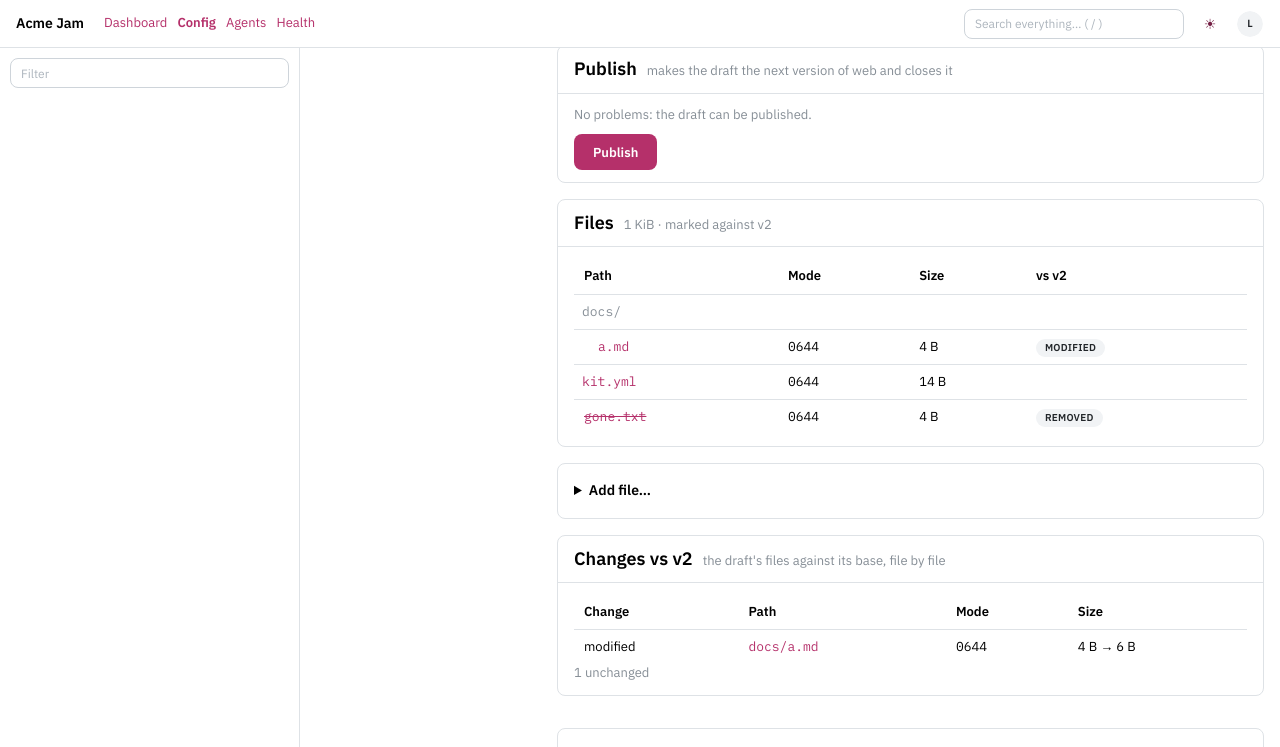
it: publishing a draft › shows an upload over the limit inline
(page scrolled)
Click the heading "Add file…" at (620, 490), box [589, 481, 651, 499]
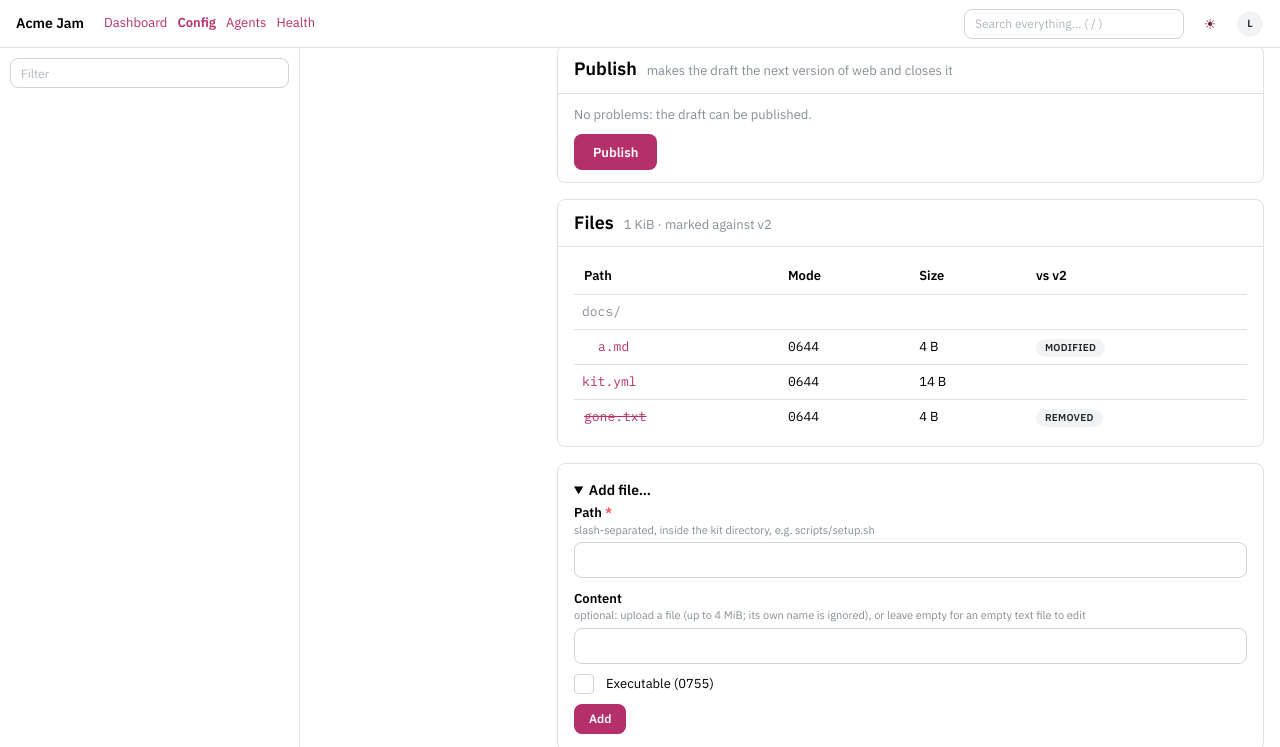
Type "big.bin" into the field labelled "Path *" at (910, 560), box [574, 542, 1247, 578]
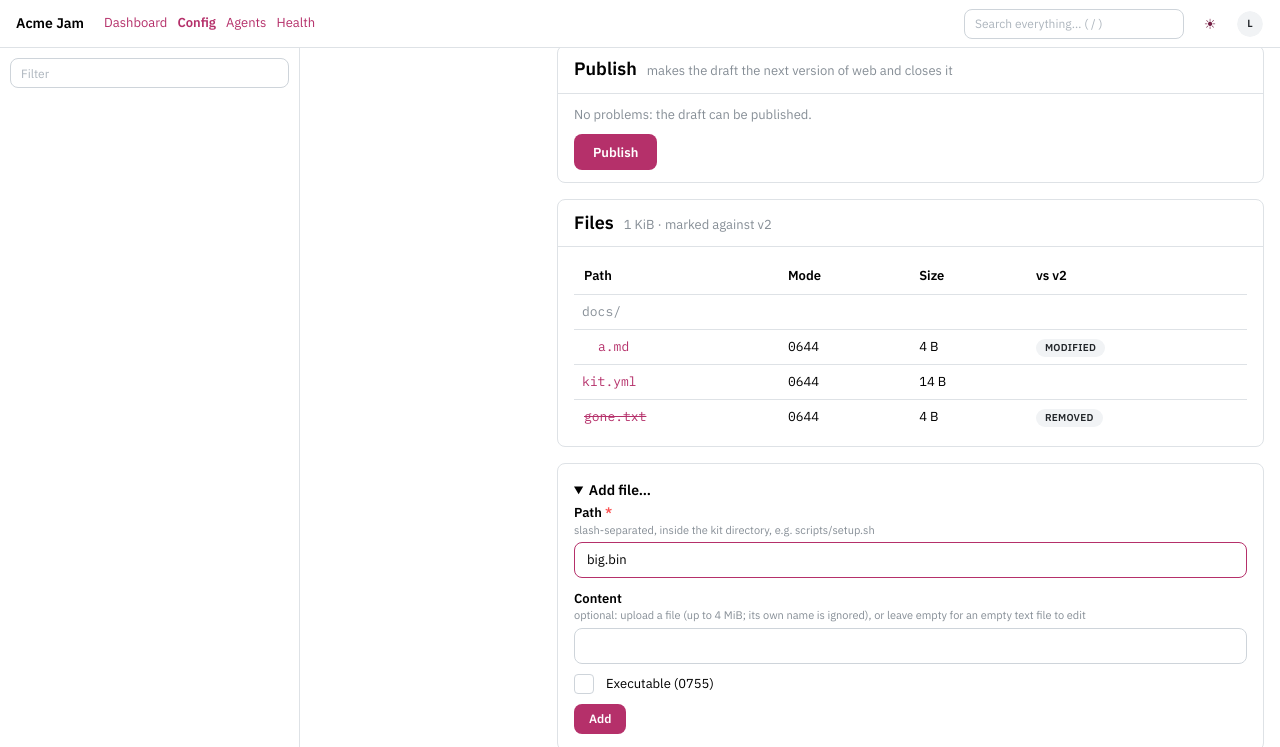
Click the button "Add" at (600, 719), box [574, 704, 626, 734]
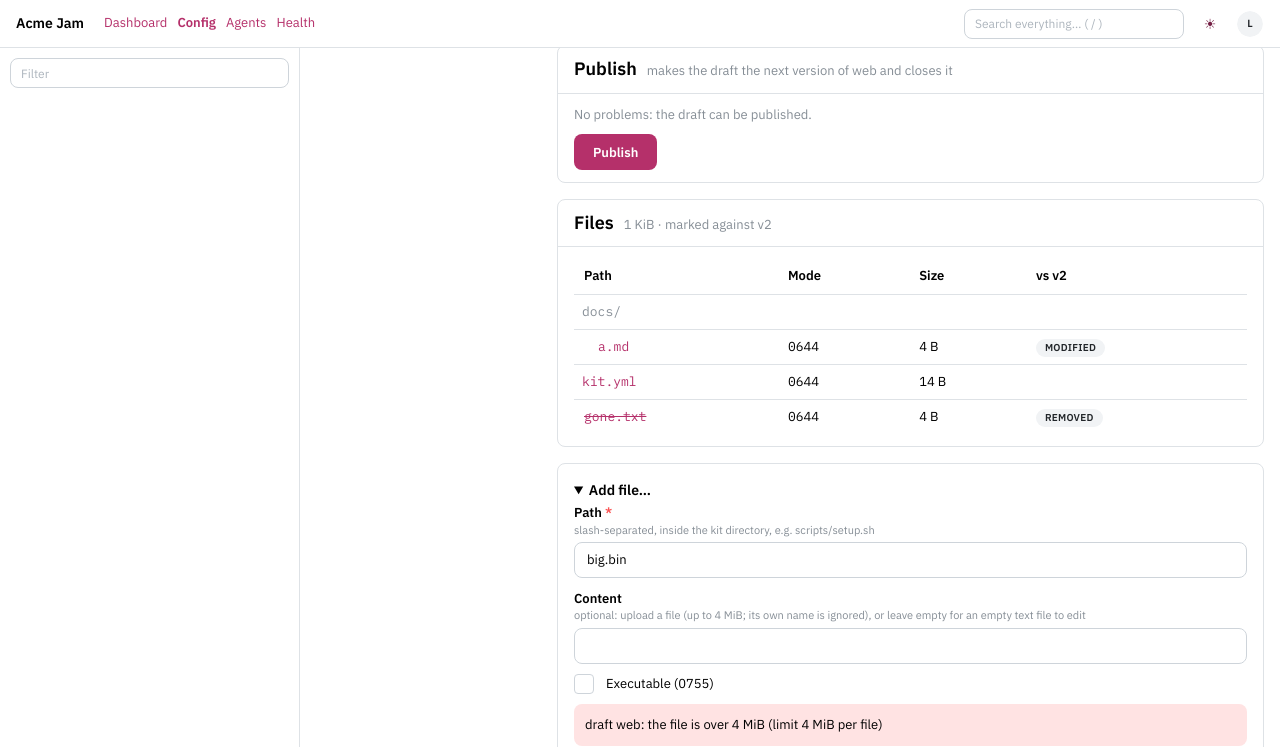
Now the text "draft web: the file is over 4 MiB (limit 4 MiB per file)" is shown, box [585, 716, 883, 733]
